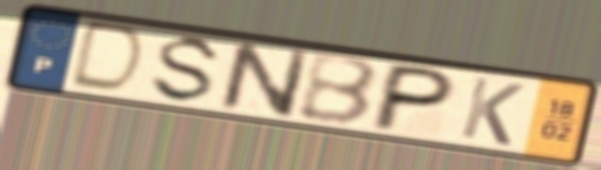B: (295, 52, 383, 129)
D: (64, 19, 150, 97)
K: (455, 74, 528, 149)
N: (216, 39, 314, 121)
P: (365, 61, 462, 134)
S: (145, 34, 228, 106)
